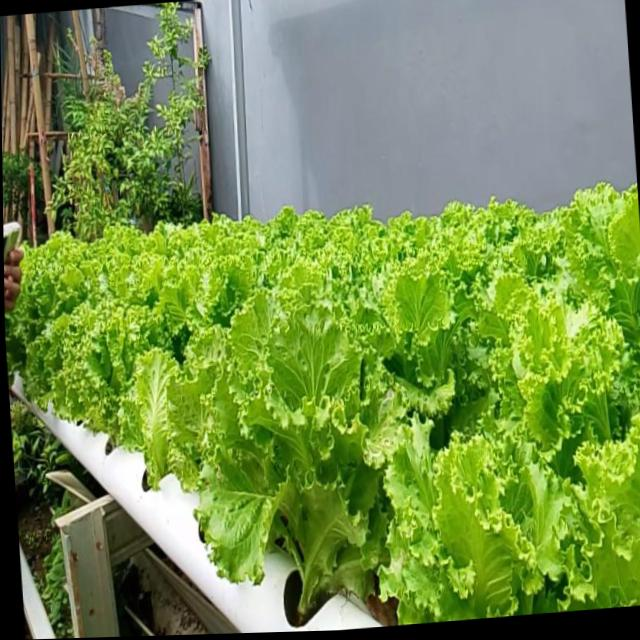Mature: (170, 298, 392, 628), (45, 295, 152, 456)
